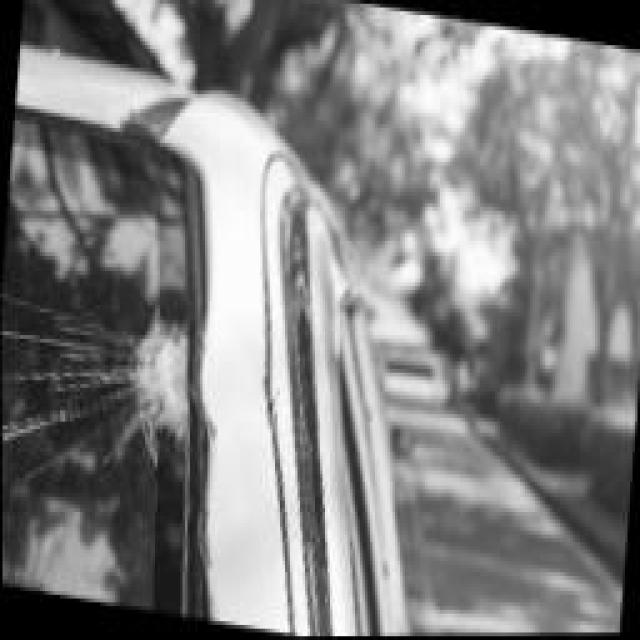Windshield: (0, 113, 219, 612)
